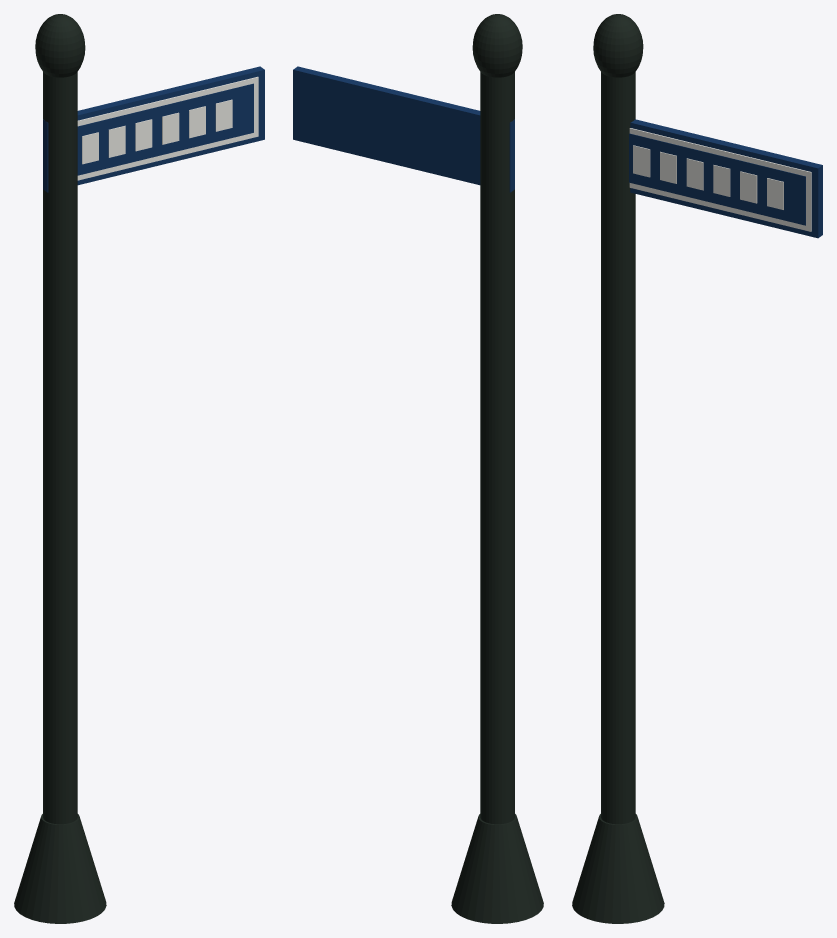
The model's file is street-sign-amsterdam.glb.
3 renders of one model, left to right at view 1: azimuth 30°, elevation 25°; view 2: azimuth 150°, elevation 25°; view 3: azimuth 330°, elevation 25°, orthographic.
Parts seen in each view (by area): view 1: Cylinder, Cone, Cube.002, Cube, Sphere, Cube.001; view 2: Cylinder, Cube, Cone, Sphere; view 3: Cylinder, Cone, Cube.002, Cube, Sphere, Cube.001.
Boxes of the visible parts, <box> form: Cylinder: <box>43,72,77,824</box>; Cone: <box>14,814,106,923</box>; Cube.002: <box>77,83,253,175</box>; Cube: <box>43,66,264,192</box>; Sphere: <box>35,14,85,77</box>; Cube.001: <box>77,76,258,180</box>; Cylinder: <box>480,72,514,824</box>; Cube: <box>293,66,514,192</box>; Cone: <box>451,814,543,923</box>; Sphere: <box>472,14,522,77</box>; Cylinder: <box>601,72,635,824</box>; Cone: <box>572,814,664,923</box>; Cube.002: <box>629,133,805,225</box>; Cube: <box>630,119,822,238</box>; Sphere: <box>593,14,643,77</box>; Cube.001: <box>629,128,811,231</box>.
Size of the model in its own units: 0.725 by 2.54 by 0.24.
